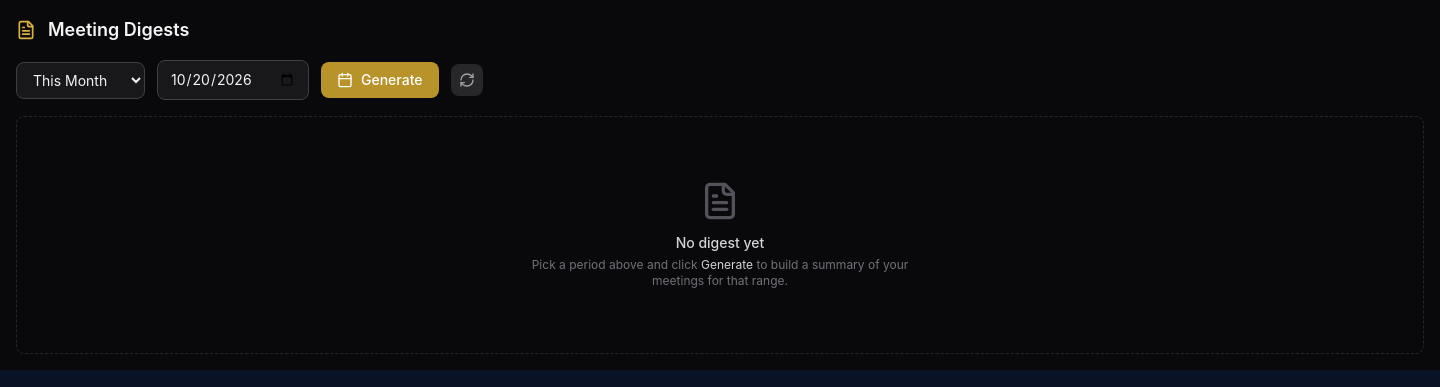
Test: Digests › fetches /api/digests with the selected period and renders the response
This screenshot has width=1440, height=387.
Check: the heading "Meeting Digests" is shown, box [48,16,189,44]
Click the button "Generate": point(380, 80) [321,62,438,98]
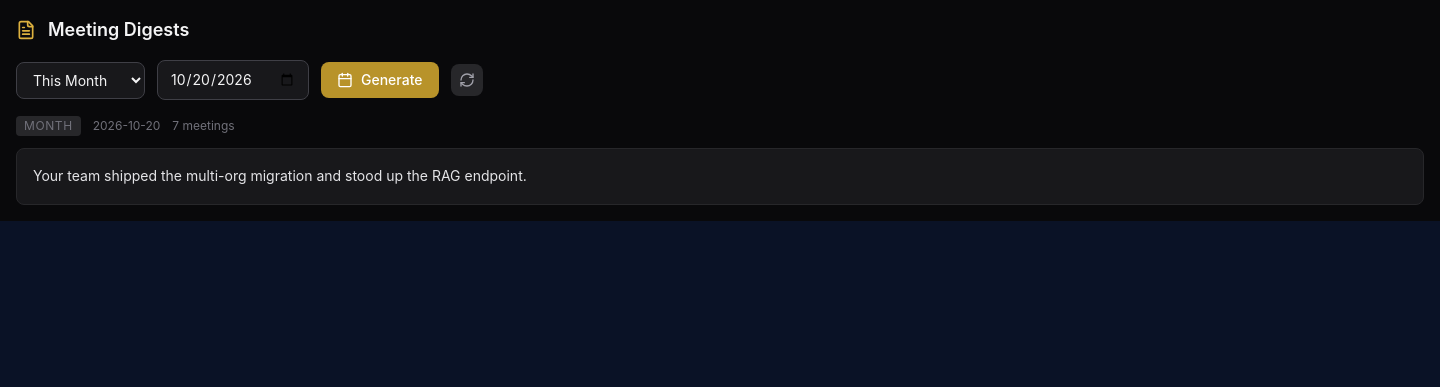
Check: the text "Your team shipped the multi-org migration" is shown, box [33,167,527,184]
